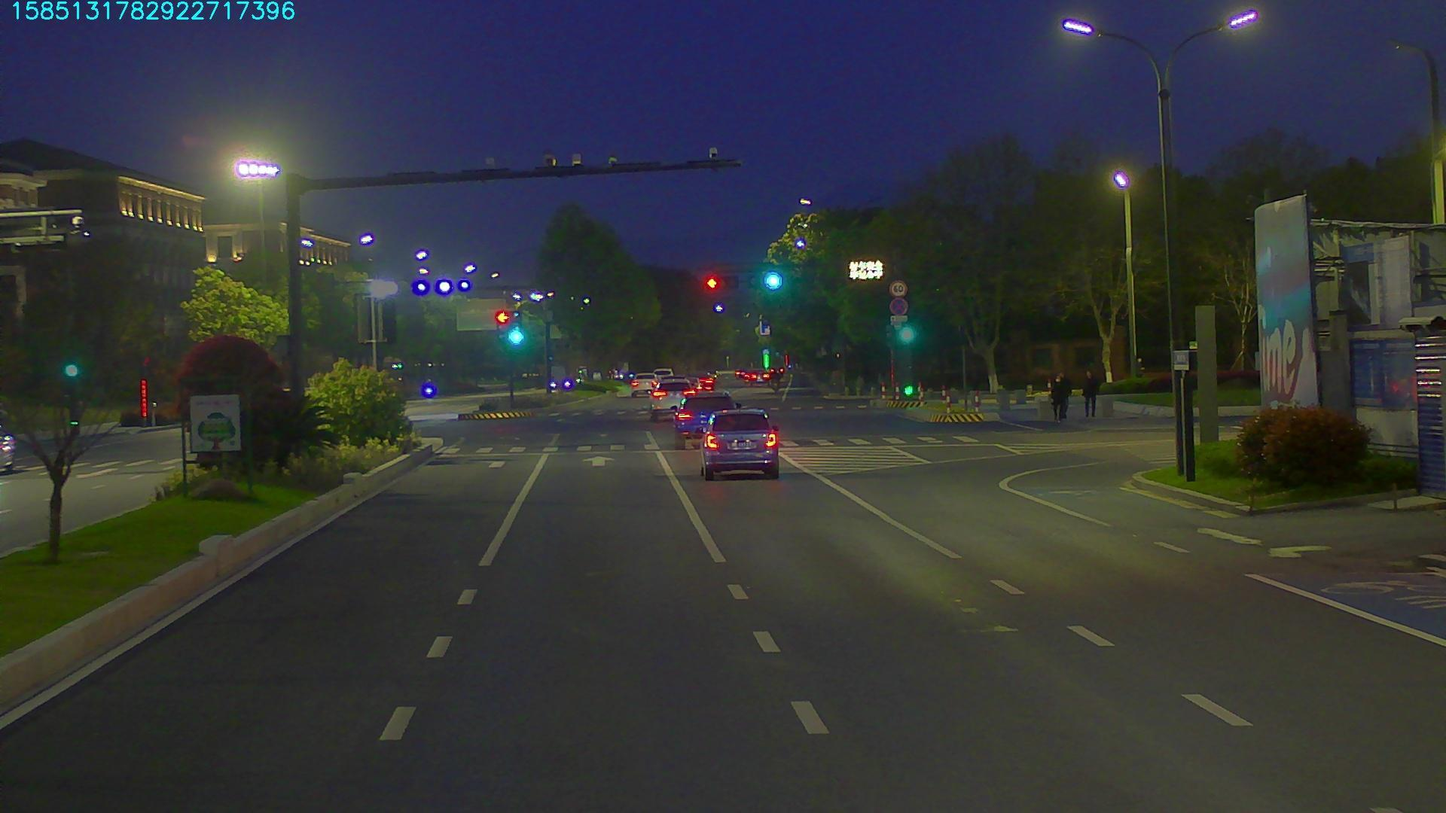green: (767, 268, 779, 290)
red: (704, 271, 725, 288)
